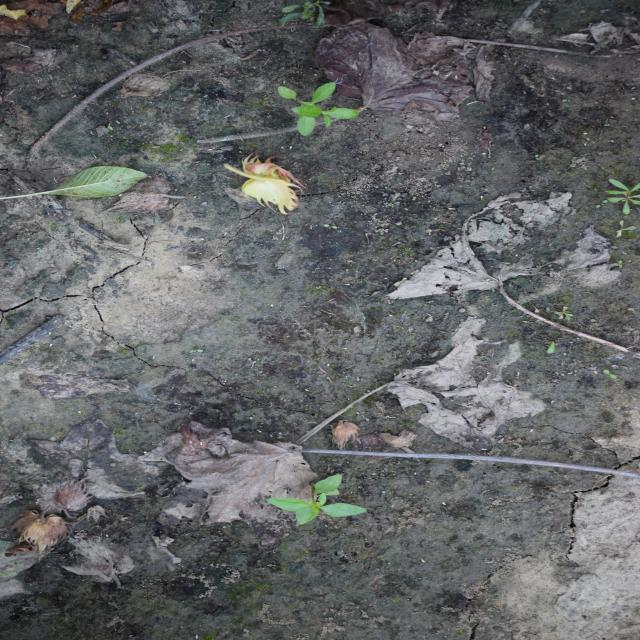Carpetweed: (600, 178, 638, 216)
Eclipta: (264, 473, 368, 527), (276, 81, 361, 138)
